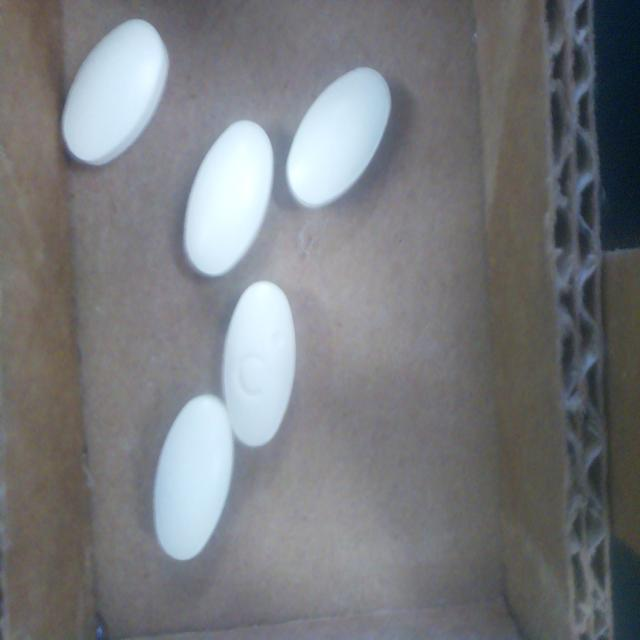pill: (61, 19, 169, 166), (285, 67, 391, 208), (184, 120, 274, 277), (154, 395, 233, 560), (223, 282, 296, 445)
